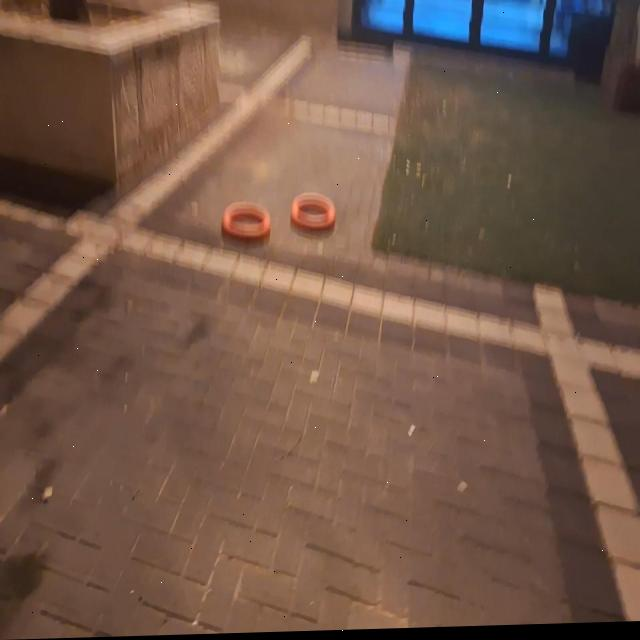note: (221, 202, 271, 247), (290, 194, 335, 237)
